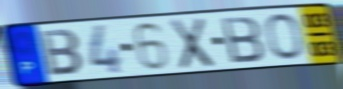4: (87, 23, 127, 76)
6: (132, 20, 171, 72)
B: (219, 14, 267, 65), (39, 28, 87, 78)
O: (263, 12, 306, 61)
X: (168, 16, 216, 71)
